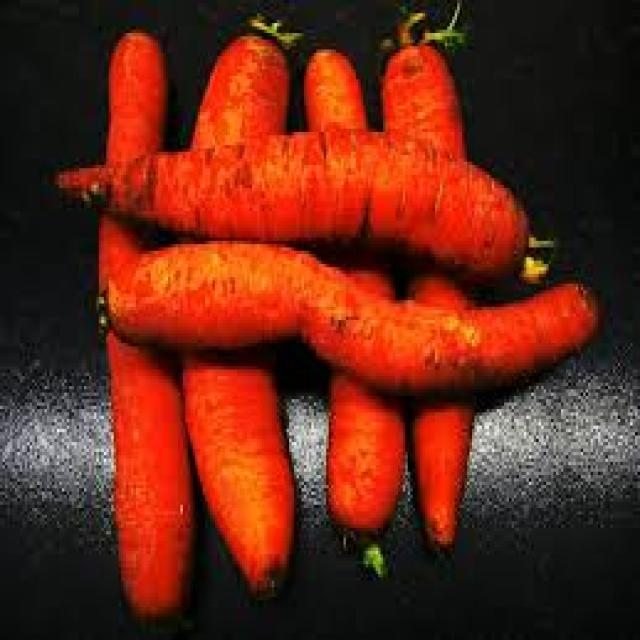Stale_Carrot: (101, 219, 597, 395), (59, 132, 524, 273)
